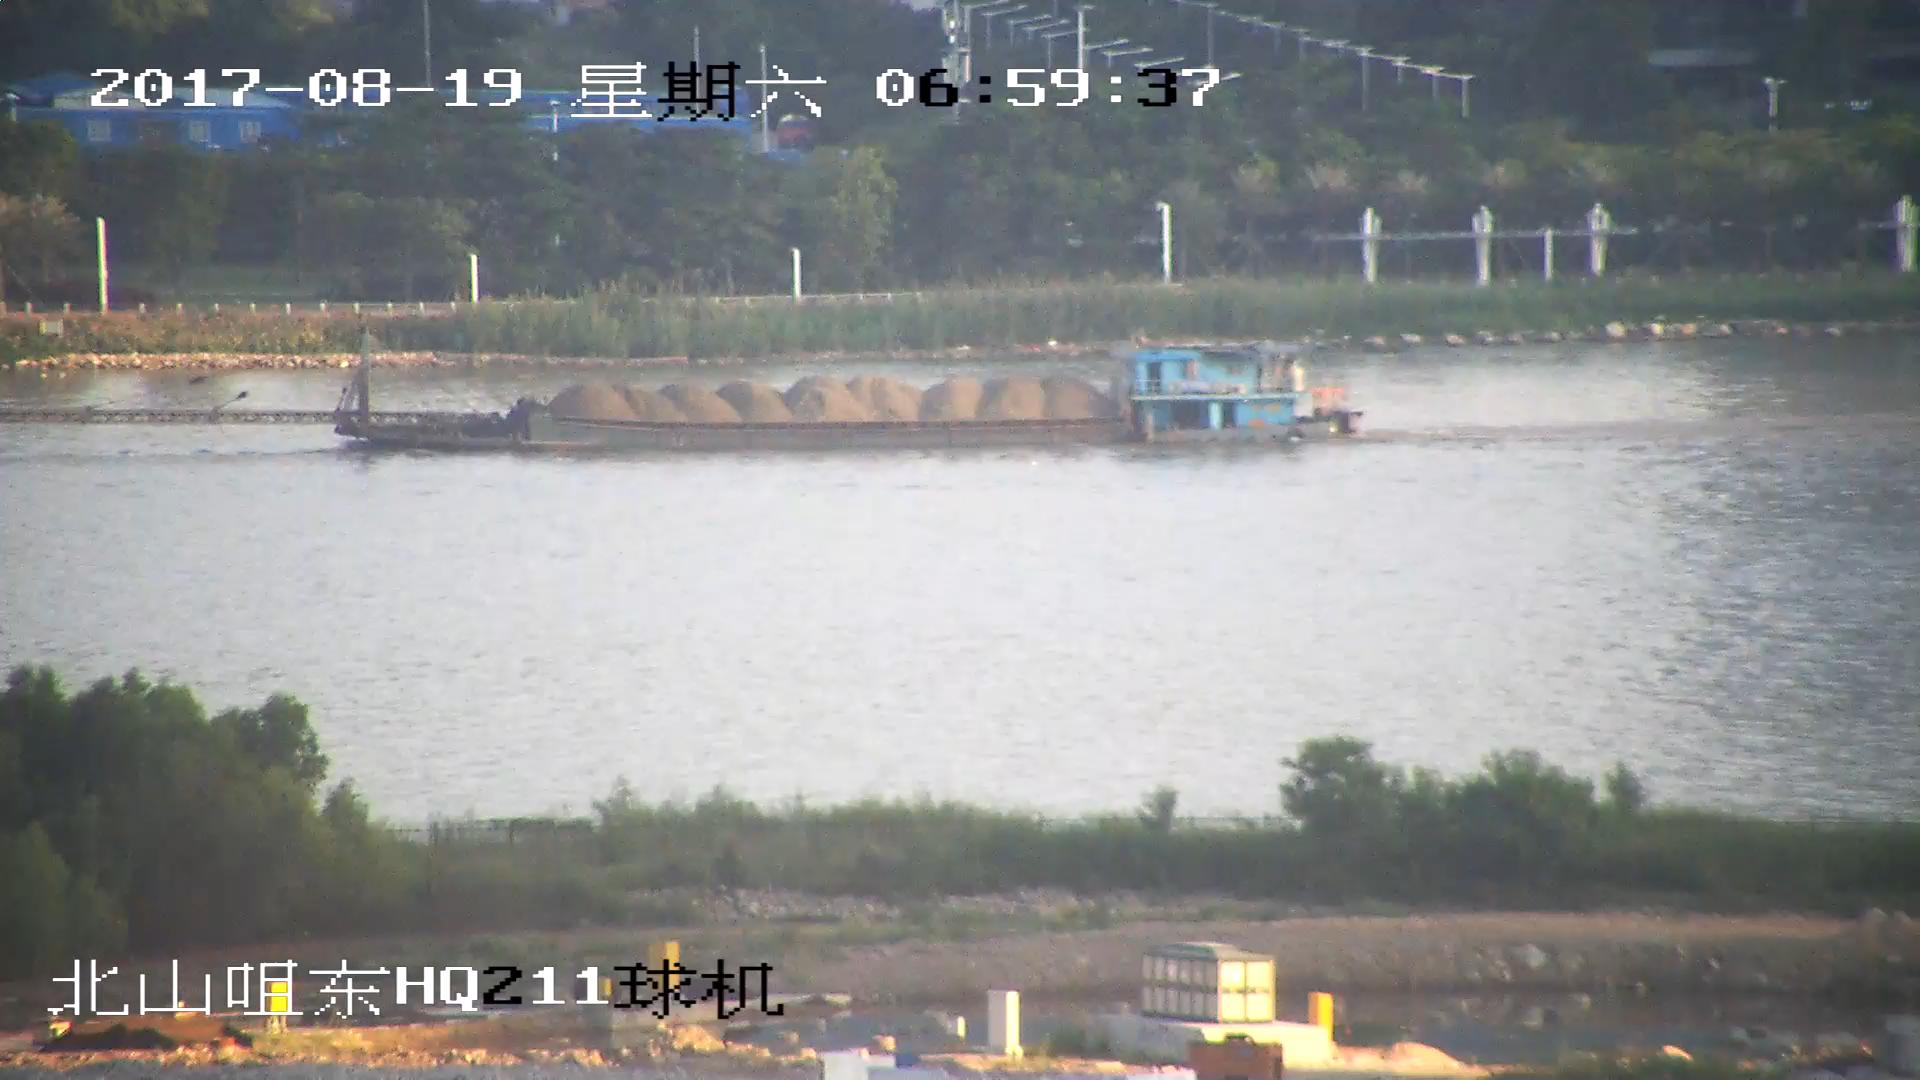ore carrier: (1, 313, 1362, 447)
